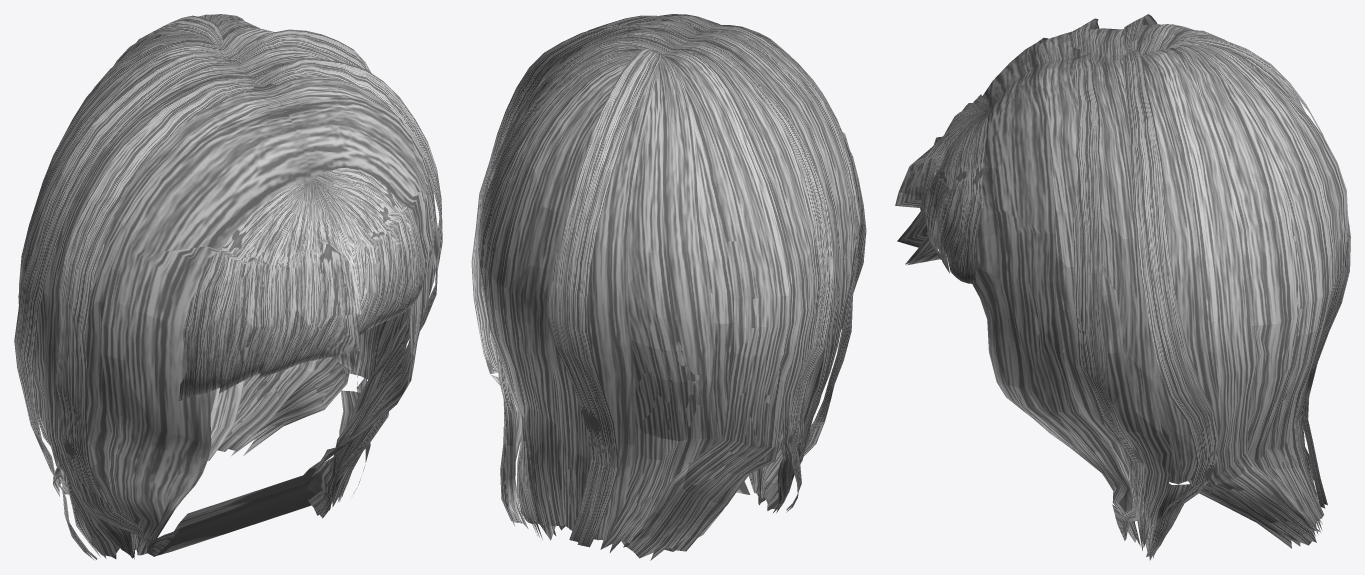
The model's file is daz_hair_wolf_clavicle.glb.
The picture shows the model from 3 angles, left to right: view 1: azimuth 30°, elevation 25°; view 2: azimuth 150°, elevation 25°; view 3: azimuth 270°, elevation 25°; orthographic projection. The views are drawn at different scales.
Visible parts, largest first — view 1: daz_hair_wolf_clavicle; view 2: daz_hair_wolf_clavicle; view 3: daz_hair_wolf_clavicle.
Part boxes in pixels (box(x1,y1,x2,y2)): daz_hair_wolf_clavicle: box(14, 14, 442, 560); daz_hair_wolf_clavicle: box(471, 14, 866, 560); daz_hair_wolf_clavicle: box(895, 14, 1350, 560).
Bounding box in the file's own units: 0.2045 × 0.2569 × 0.2233.
Materials: 1 (1 with a texture image).
